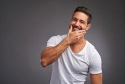male: (66, 5, 93, 45)
